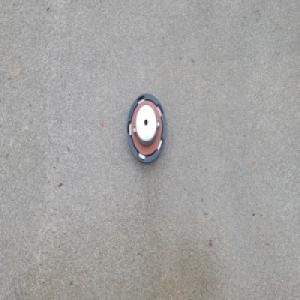FuelCap: (125, 91, 167, 166)
